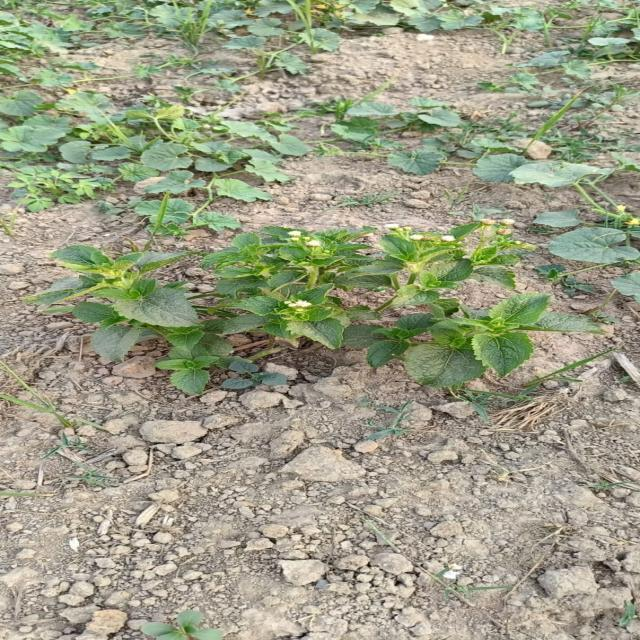plant: (28, 220, 597, 390)
